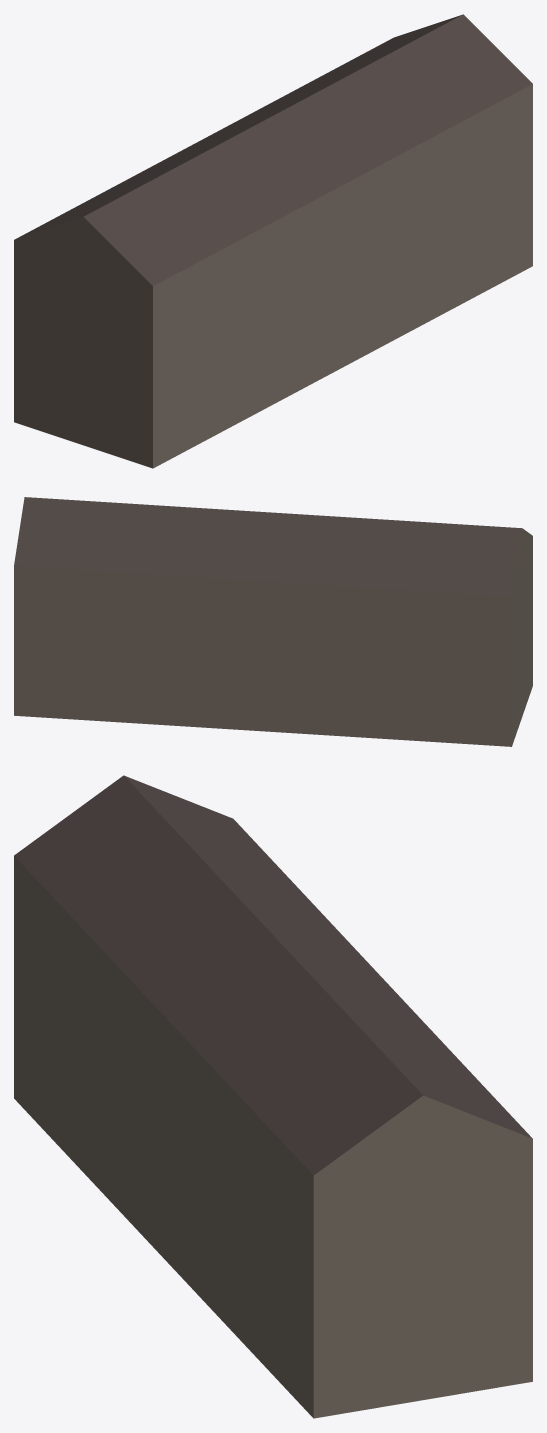
3 renders of one model, top to bottom at view 1: azimuth 30°, elevation 25°; view 2: azimuth 150°, elevation 25°; view 3: azimuth 270°, elevation 25°, orthographic. The views are drawn at different scales.
Visible parts, largest first — view 1: HP-w1198664280; view 2: HP-w1198664280; view 3: HP-w1198664280.
Part boxes in pixels (x1,y1,x2,y2): HP-w1198664280: (14, 14, 532, 468); HP-w1198664280: (14, 497, 532, 746); HP-w1198664280: (14, 775, 532, 1418).
Size of the model in its own units: 18.91 by 7.53 by 11.62.
